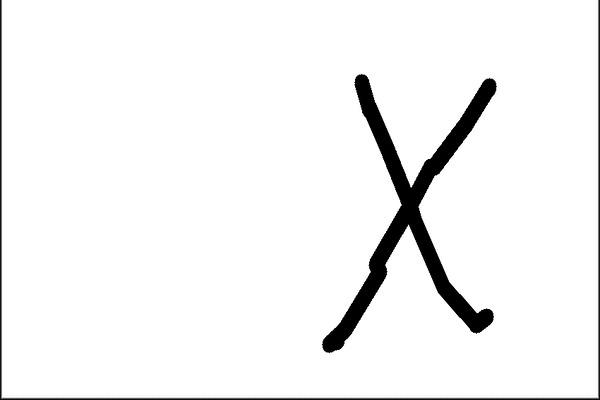X: (301, 42, 510, 357)
